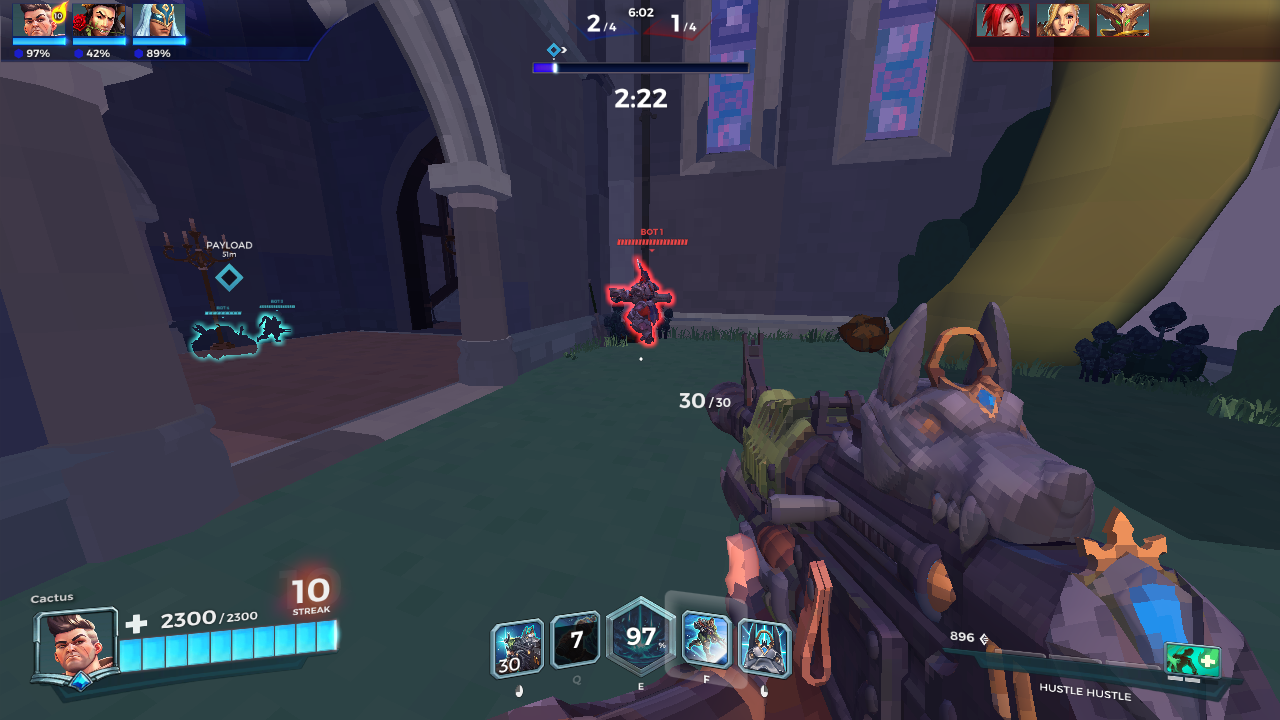model: (614, 258, 671, 358)
